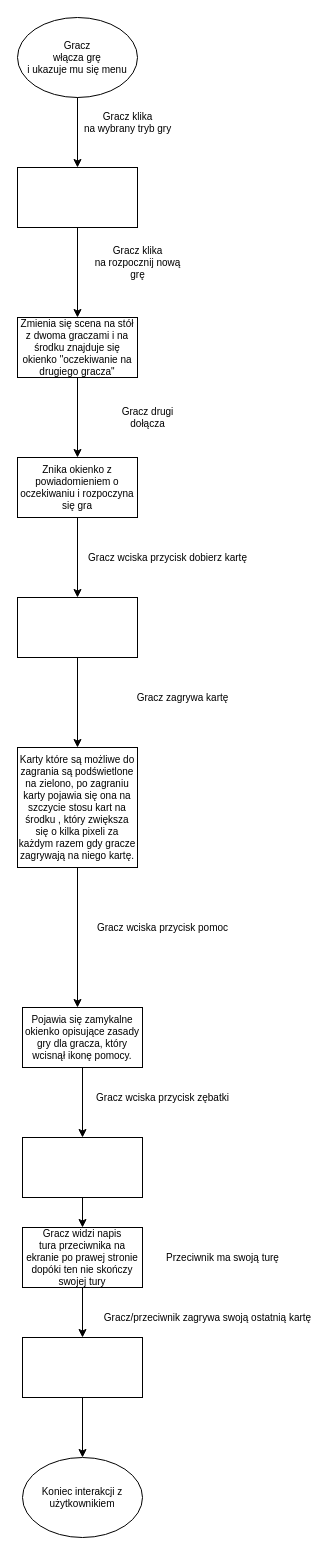
The diagram is 335 pixels wide and 1555 high, and some of its shapes have lost their labels. Each missing label, with the centre of its shape:
Gra podświetla wybrany przez gracza tryb gry: point 77,197
Gracz/przeciwnik otrzymują komunikat w okienku Gracz X wygrał: point 82,1367
Pojawia się zamykalne okno menu gdzie gracz może się poddać lub wyjść z gry.: point 82,1167
W jego ręce z prawej strony pojawia się kolejna właśnie dobrana karta: point 77,627
